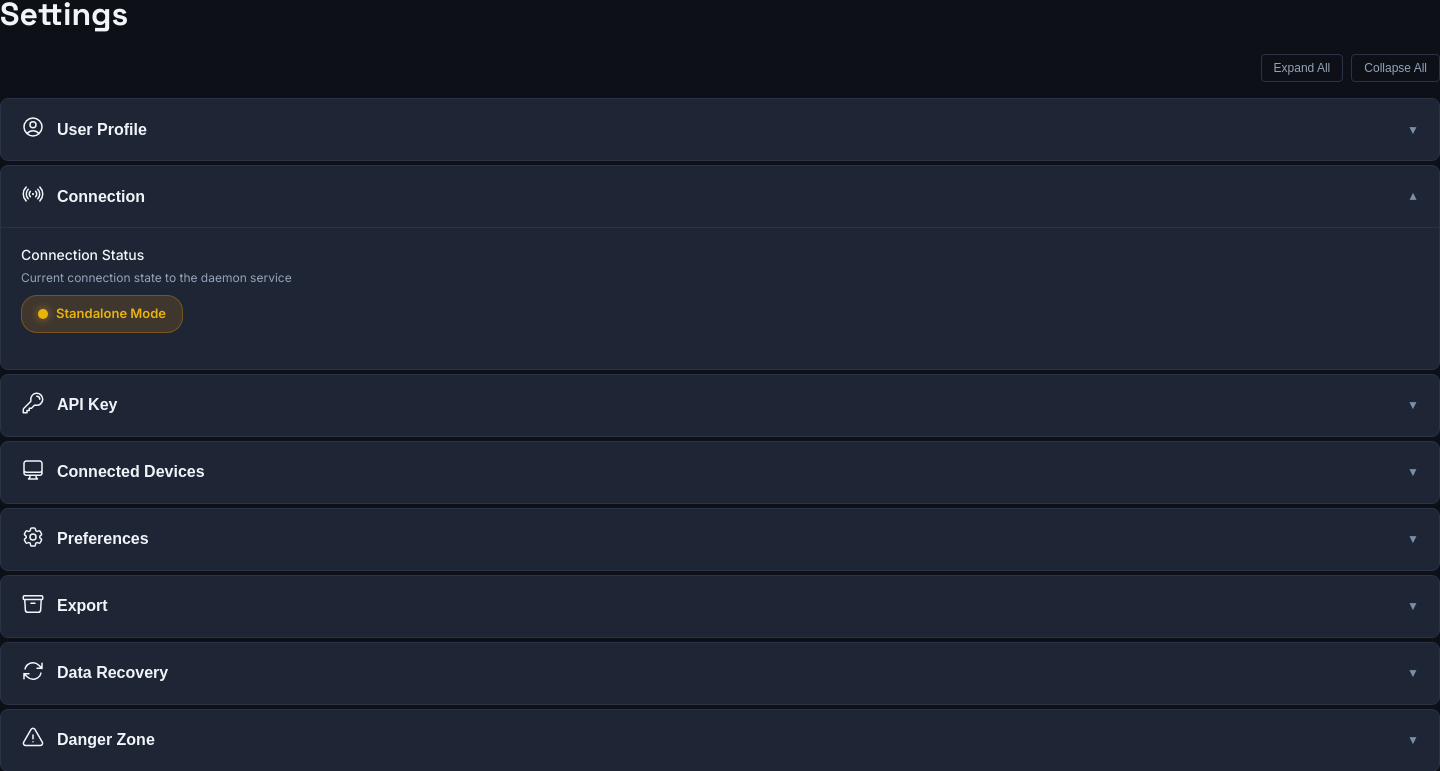
Scenario: Settings › Preferences section › shows refresh interval when auto-refresh is enabled
Note: Expand preferences section
Click the button "Preferences ▼" at (103, 538), box [1,508,1439,570]
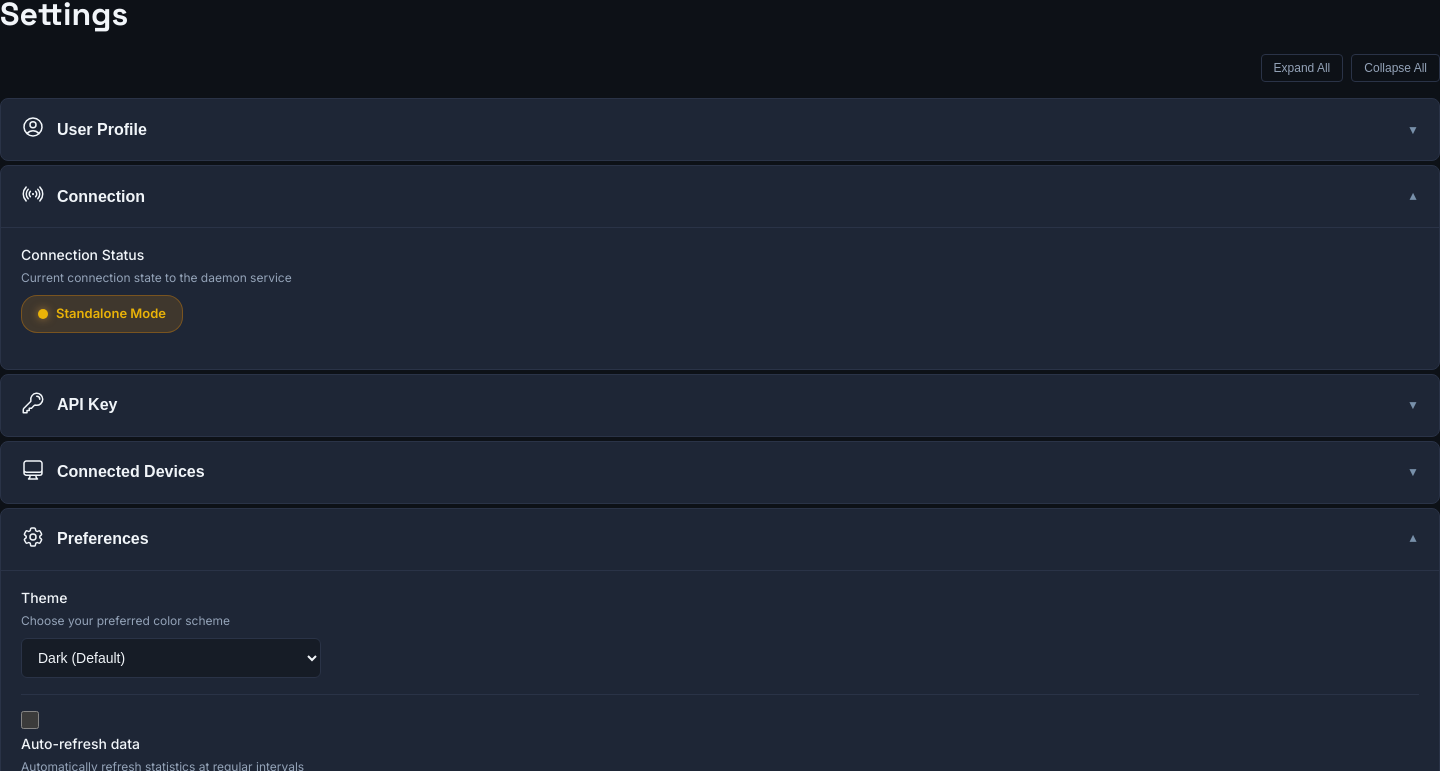
Note: Find and click the auto-refresh toggle
Click the checkbox labelled "Auto-refresh data" at (30, 720), box [21,710,39,728]
(page scrolled)
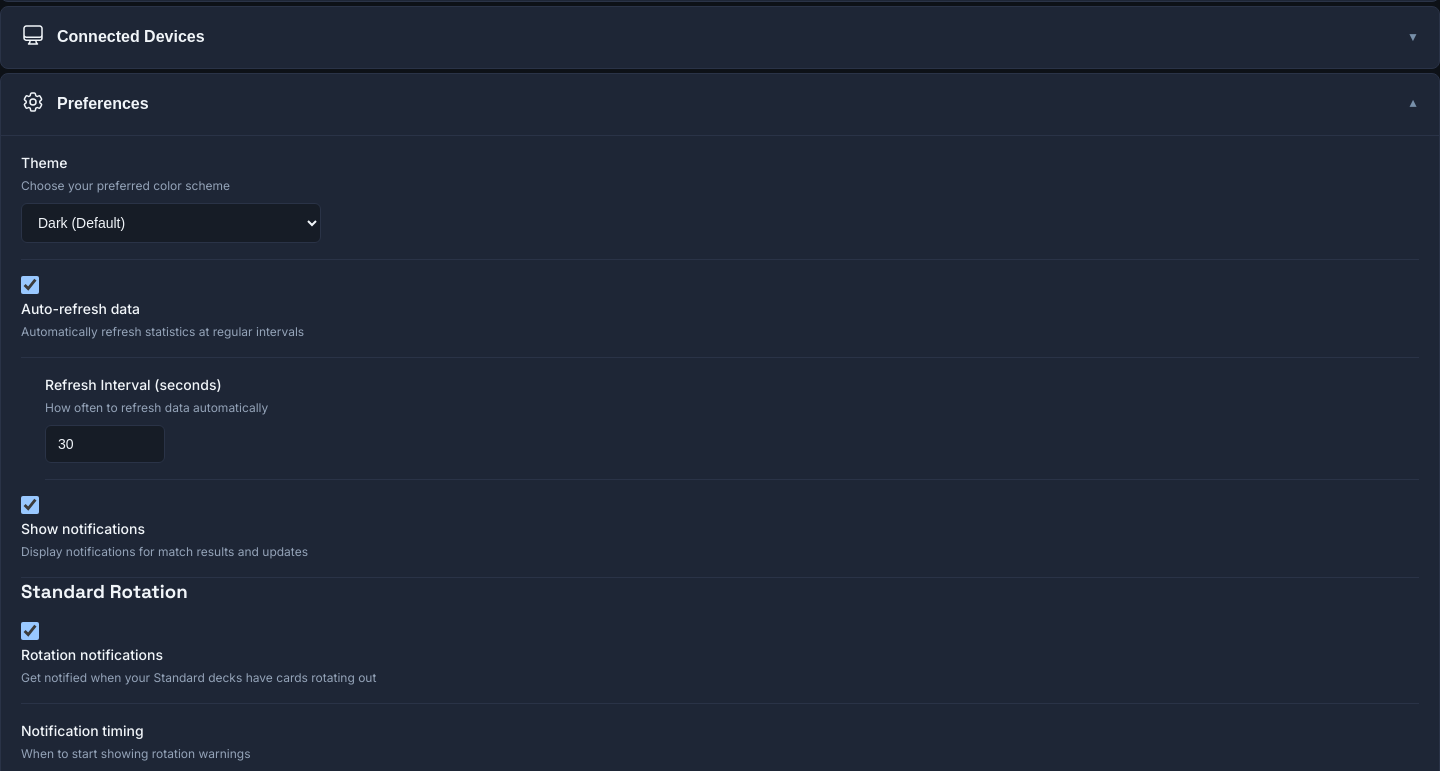
Expected: the text "Refresh Interval (seconds)" is shown, [45,376,222,392]
